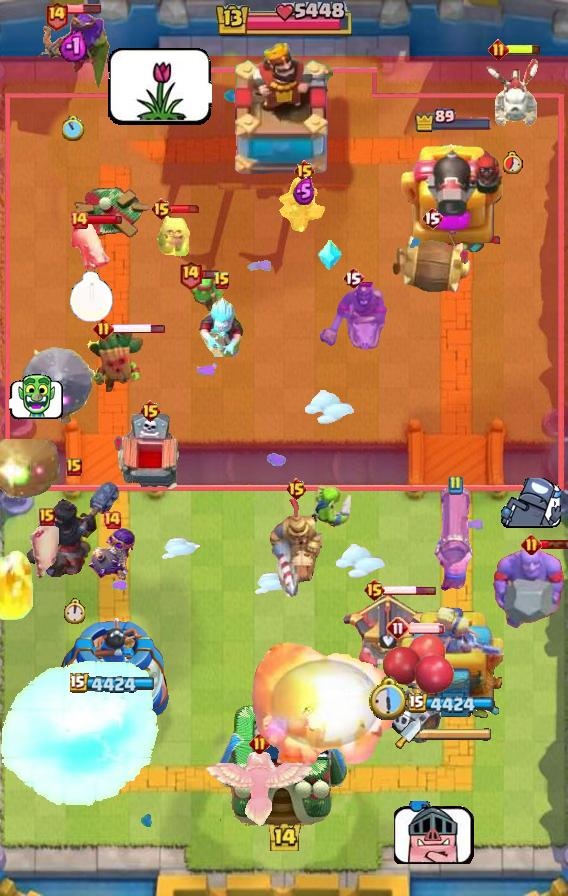archer-queen: (490, 548, 568, 630)
bar: (399, 607, 507, 731)
barbarian-hut: (34, 8, 112, 94)
bat-evolution: (156, 209, 194, 257)
battle-healer: (432, 488, 478, 592)
clock: (213, 2, 355, 40)
electro-spirit: (59, 29, 87, 62), (293, 177, 315, 205)
elixir: (70, 271, 114, 323), (370, 676, 411, 721), (63, 115, 86, 140), (63, 598, 85, 624), (503, 151, 523, 174)
elixir-golem-mid: (115, 412, 185, 498)
emote: (111, 321, 166, 334), (383, 584, 437, 595), (506, 44, 542, 57), (408, 622, 446, 634), (66, 3, 102, 15), (87, 214, 123, 226), (170, 204, 202, 214), (540, 539, 568, 550), (200, 269, 219, 280)
freeze: (317, 282, 389, 350)
giant: (69, 217, 113, 273), (30, 524, 64, 582)
giant-snowball: (186, 274, 226, 320)
goblin-ball: (87, 527, 137, 581)
goblin-barrel: (87, 329, 145, 393)
golden-knight: (203, 750, 315, 830)
inferno-dragon: (27, 479, 122, 577)
king-tower: (220, 702, 348, 827), (228, 41, 340, 181)
king-tower-bar: (421, 727, 493, 741)
lava-pup: (343, 593, 435, 675)
mega-knight: (0, 660, 162, 810)
mini-pekka: (484, 55, 542, 129)
mortar: (197, 293, 247, 357)
pad_2: (317, 239, 343, 271)
queen-tower: (54, 614, 173, 730)
ram-rider: (267, 491, 325, 601)
royal-recruit-evolution: (378, 631, 456, 747)
selected: (69, 672, 158, 696), (410, 692, 499, 715), (414, 108, 494, 133)
skeleton: (107, 46, 212, 126), (394, 800, 476, 863), (501, 478, 561, 530), (8, 374, 63, 420)
skeleton-dragon: (278, 174, 330, 232)
text: (44, 0, 69, 31), (178, 259, 202, 290), (386, 616, 410, 640), (292, 159, 315, 183), (150, 197, 173, 221), (139, 399, 162, 423), (285, 477, 308, 501), (363, 578, 386, 602), (421, 206, 443, 230), (342, 266, 364, 290), (522, 533, 543, 555), (249, 733, 270, 755), (488, 40, 509, 61), (94, 317, 115, 338), (69, 210, 89, 230), (102, 510, 122, 530), (213, 271, 231, 291), (447, 475, 463, 495), (66, 458, 82, 476), (39, 508, 55, 526)
the-log: (390, 233, 474, 295)
tower-bar: (399, 138, 507, 256)
valkyrie: (242, 640, 404, 772), (0, 549, 39, 625)
x-bow: (16, 346, 96, 426), (0, 439, 64, 501)
zap: (306, 484, 354, 528)
